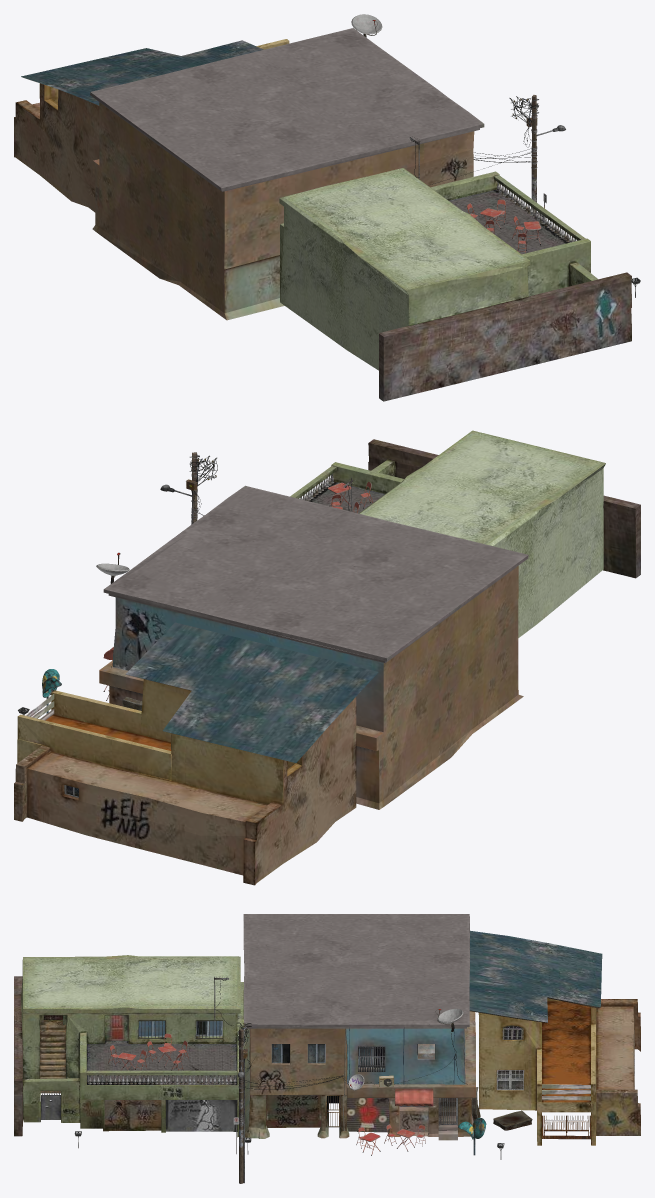
The model's file is z_fav.glb.
3 renders of one model, top to bottom at view 1: azimuth 30°, elevation 25°; view 2: azimuth 150°, elevation 25°; view 3: azimuth 270°, elevation 25°, orthographic. The views are drawn at different scales.
Parts seen in each view (by area): view 1: mainstructure (×2), polySurface1, wall, polySurface2, rail; view 2: mainstructure (×2), polySurface1, polySurface2, wall; view 3: mainstructure (×2), polySurface1, garage2 (×2), garage1 (×2), stairs (×2), wall, window2 (×2), rail, gate1, woodpanels, woodbase, awning (+5 smaller).
Part boxes in pixels (x1,y1,x2,y2): mainstructure (×2): (14, 28, 484, 320); polySurface1: (280, 168, 597, 325); wall: (379, 272, 631, 401); polySurface2: (279, 197, 408, 370); rail: (494, 175, 585, 240); mainstructure (×2): (14, 485, 528, 885); polySurface1: (308, 430, 605, 544); polySurface2: (488, 464, 605, 637); wall: (368, 439, 640, 578); mainstructure (×2): (243, 914, 640, 1145); polySurface1: (21, 955, 244, 1137); garage2 (×2): (166, 1098, 389, 1132); garage1 (×2): (103, 1095, 321, 1131); stairs (×2): (39, 1020, 457, 1140); wall: (14, 976, 22, 1136); window2 (×2): (196, 1021, 524, 1090); rail: (86, 1070, 237, 1075); gate1: (542, 1115, 590, 1139); woodpanels: (542, 1084, 590, 1100); woodbase: (239, 1029, 243, 1183); awning: (395, 1088, 433, 1106).
Bounding box in the file's own units: 0.2282 × 0.1147 × 0.4202.
14 materials, 14 textured.
